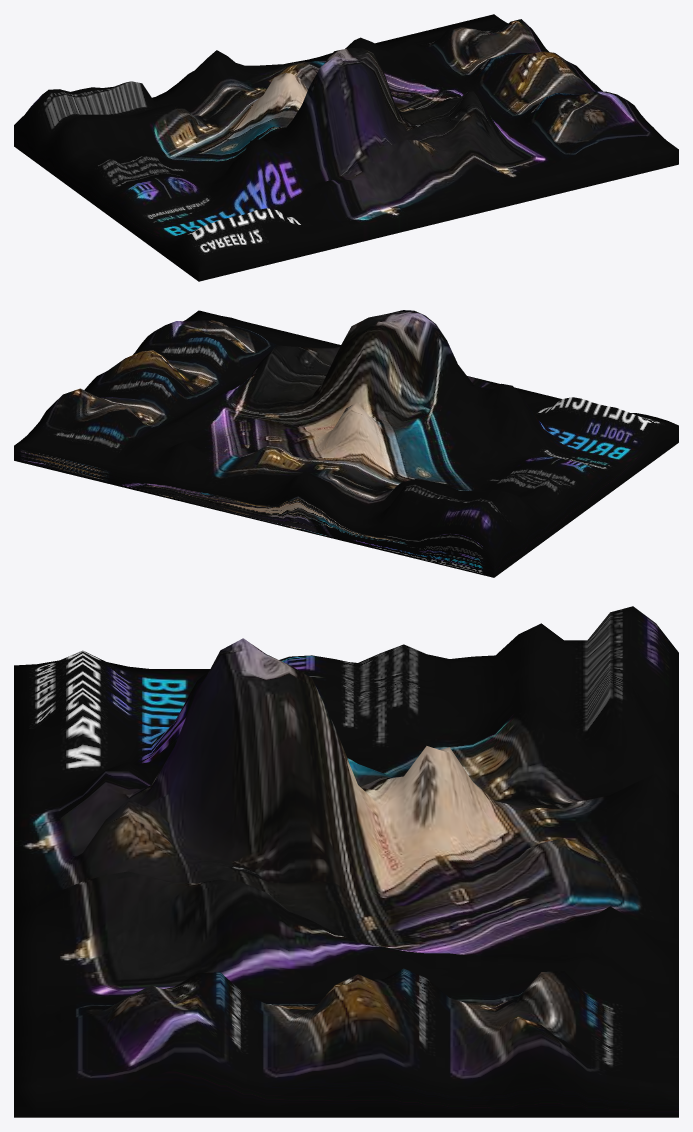
File: CAREER_12_Tool_01_Briefcase.glb
3 views of the same model, one above another, from view 1: azimuth 30°, elevation 25°; view 2: azimuth 150°, elevation 25°; view 3: azimuth 270°, elevation 25° (orthographic). The views are drawn at different scales.
Visible parts, largest first — view 1: CAREER_12_Tool_01_Briefcase; view 2: CAREER_12_Tool_01_Briefcase; view 3: CAREER_12_Tool_01_Briefcase.
Part boxes in pixels (<box>): CAREER_12_Tool_01_Briefcase: <box>14,14,678,281</box>; CAREER_12_Tool_01_Briefcase: <box>14,310,678,577</box>; CAREER_12_Tool_01_Briefcase: <box>14,606,678,1117</box>.
Bounding box in the file's own units: 2 × 0.51 × 1.33.
1 material, 1 textured.
